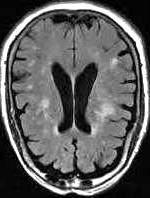Normal_Brain: (8, 1, 150, 198)
